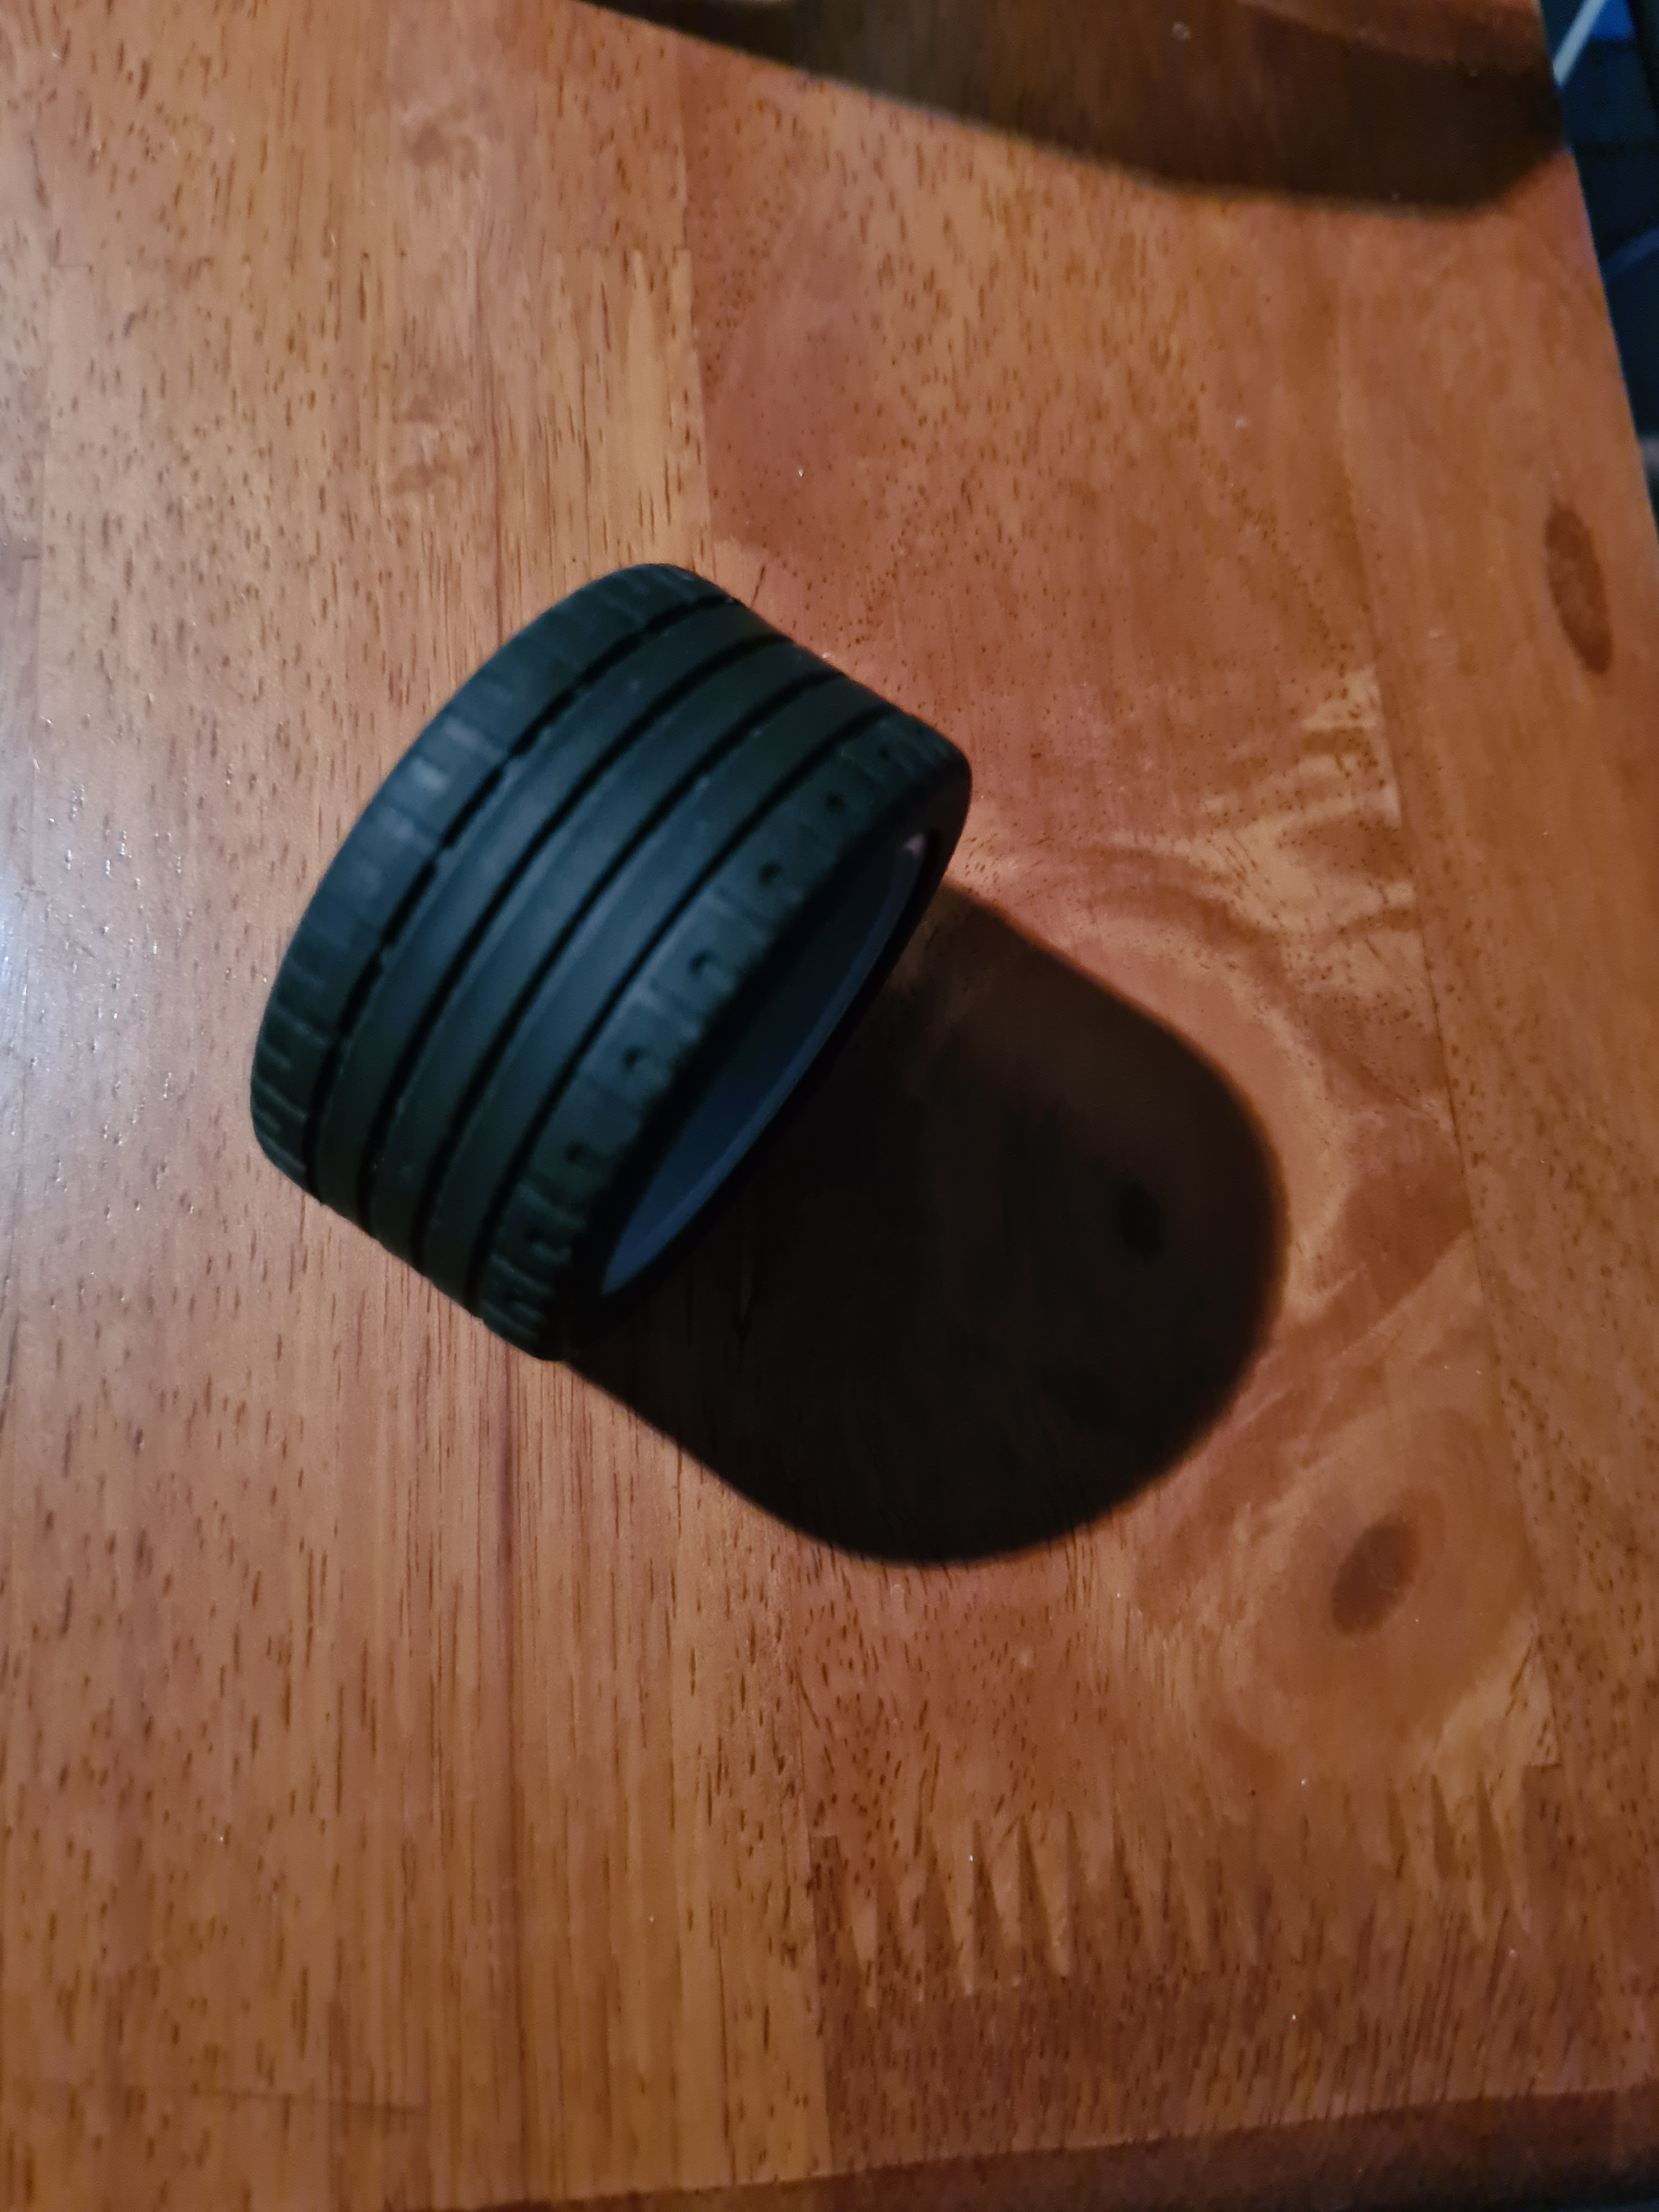Rad: (228, 533, 992, 1392)
